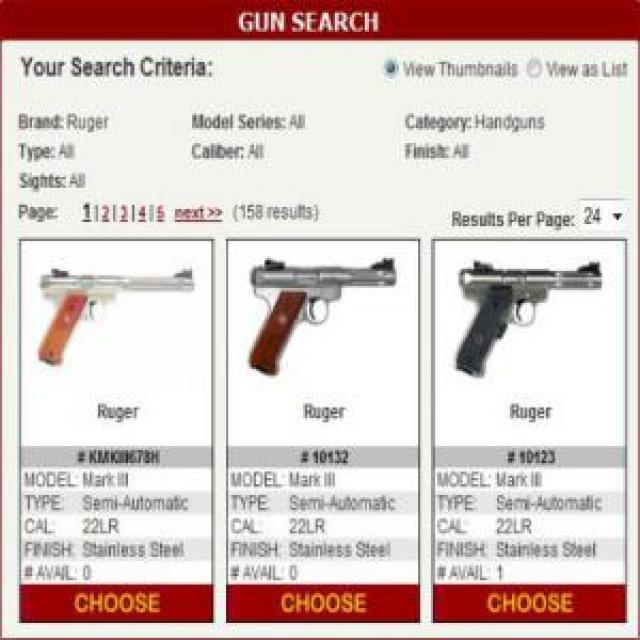pistol: (245, 258, 398, 376), (452, 262, 605, 376), (36, 266, 198, 364)
